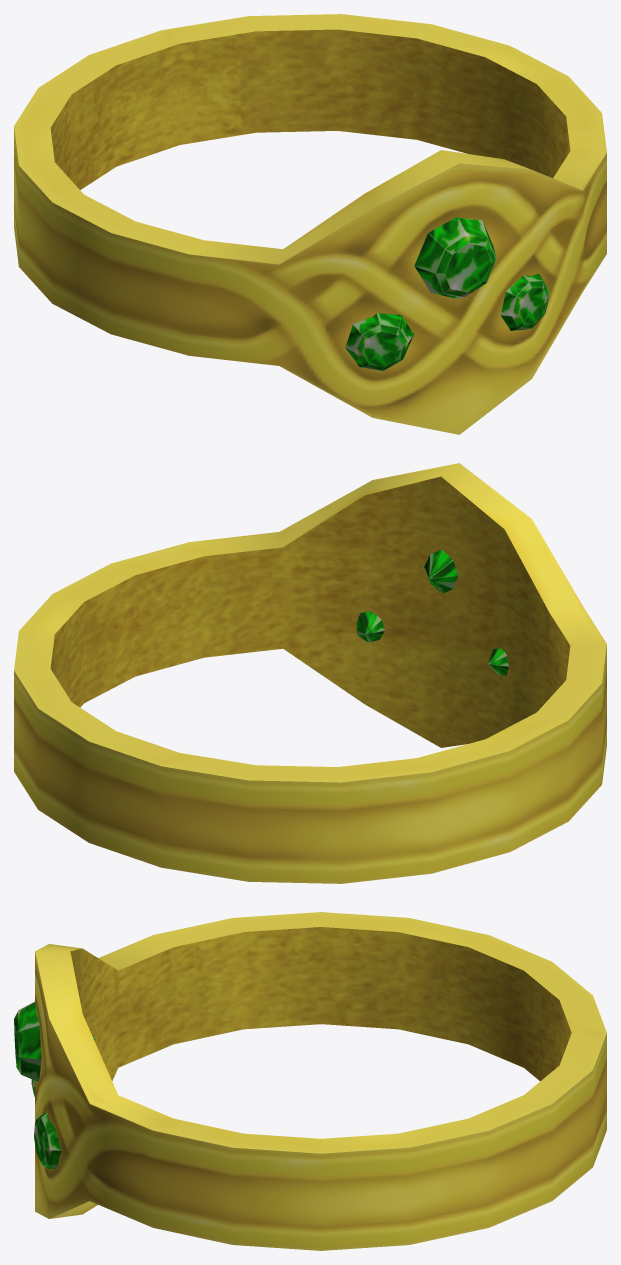
Rendered from ring_gold_08.fbx.
3 renders of one model, top to bottom at view 1: azimuth 30°, elevation 25°; view 2: azimuth 150°, elevation 25°; view 3: azimuth 270°, elevation 25°, orthographic. The views are drawn at different scales.
Visible parts, largest first — view 1: ring_gold_08; view 2: ring_gold_08; view 3: ring_gold_08.
Boxes of the visible parts, x1,y1,x2,y2 form: ring_gold_08: (14,14,606,434); ring_gold_08: (14,463,606,883); ring_gold_08: (14,912,606,1250).
Size of the model in its own units: 2.04 by 1.03 by 2.12.
